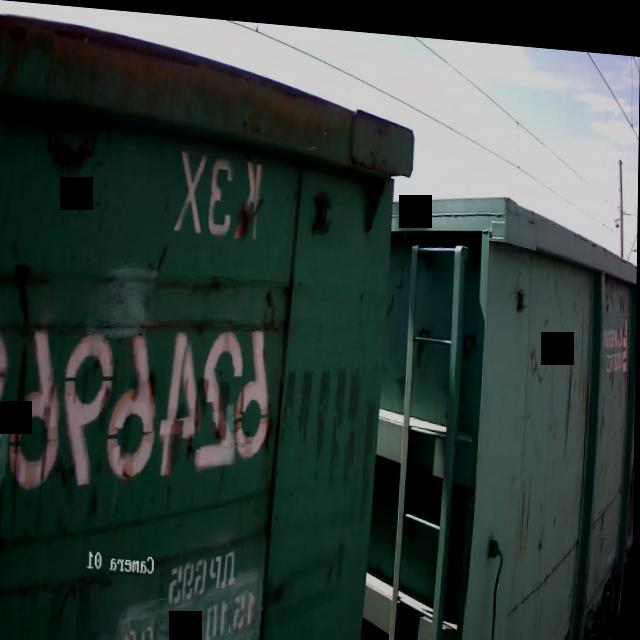gondola: (0, 0, 426, 640), (373, 159, 638, 640)
